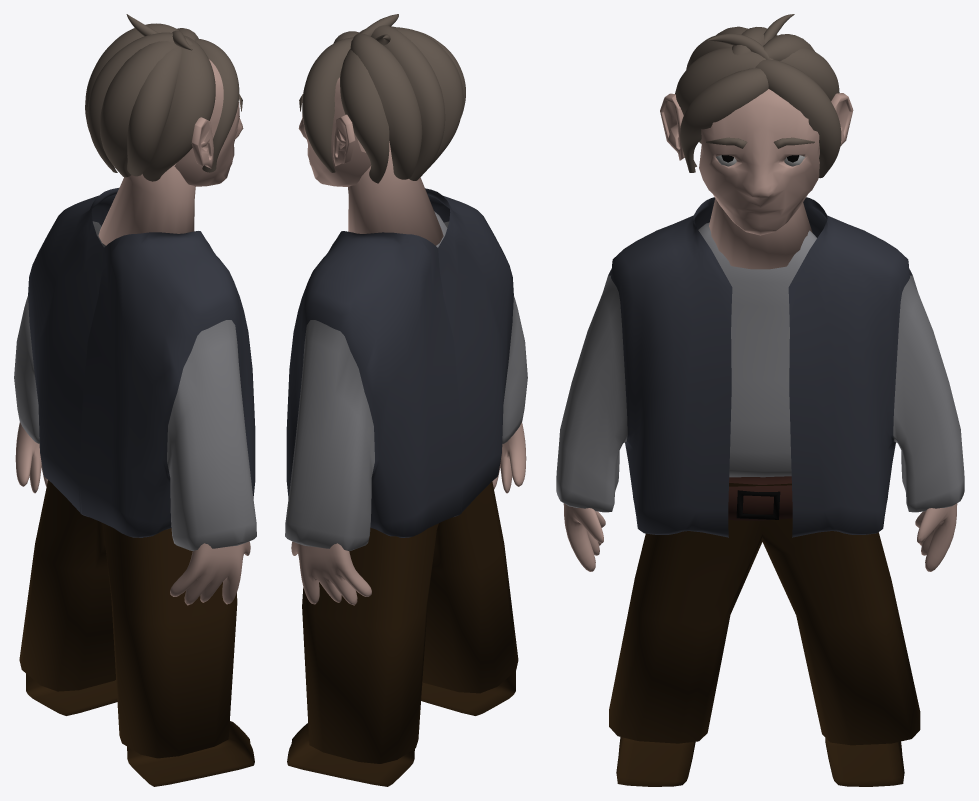
File: character5.fbx
3 renders of one model, left to right at view 1: azimuth 30°, elevation 25°; view 2: azimuth 150°, elevation 25°; view 3: azimuth 270°, elevation 25°, orthographic. The views are drawn at different scales.
Visible parts, largest first — view 1: Cube.034, Cube.033, Cube.062, Cylinder.002, Cube.031, NurbsPath, NurbsPath.004, NurbsPath.005, Object_low.003, NurbsPath.007, NurbsPath.001, NurbsPath.006 (+1 smaller); view 2: Cube.034, Cube.033, Cylinder.002, Cube.062, NurbsPath.006, Cube.031, NurbsPath.007, NurbsPath.002, NurbsPath.003, NurbsPath.004, Object_low.003, Plane.005; view 3: Cube.034, Cube.033, Cube.035, Object_low.003, Cube.062, Cylinder.002, Cube.031, NurbsPath.003, NurbsPath.001, NurbsPath, Cube.037, Plane.005 (+2 smaller).
Boxes of the visible parts, box(x1,y1,x2,y2) form: Cube.034: box(14, 188, 256, 550); Cube.033: box(19, 480, 237, 758); Cube.062: box(26, 673, 254, 786); Cylinder.002: box(98, 163, 195, 245); Cube.031: box(15, 422, 250, 605); NurbsPath: box(142, 35, 215, 181); NurbsPath.004: box(100, 41, 178, 177); NurbsPath.005: box(127, 47, 181, 176); Object_low.003: box(174, 59, 243, 186); NurbsPath.007: box(87, 32, 193, 172); NurbsPath.001: box(194, 38, 239, 172); NurbsPath.006: box(85, 23, 179, 131); Cube.034: box(285, 188, 527, 550); Cube.033: box(302, 481, 518, 763); Cylinder.002: box(348, 139, 443, 245); Cube.062: box(287, 671, 515, 786); NurbsPath.006: box(350, 33, 422, 179); Cube.031: box(291, 422, 526, 605); NurbsPath.007: box(371, 25, 445, 180); NurbsPath.002: box(340, 49, 389, 183); NurbsPath.003: box(302, 37, 353, 172); NurbsPath.004: box(392, 27, 463, 171); Object_low.003: box(298, 77, 371, 186); Plane.005: box(333, 114, 355, 166); Cube.034: box(556, 197, 964, 537); Cube.033: box(609, 483, 920, 745); Cube.035: box(698, 222, 816, 477); Object_low.003: box(699, 89, 819, 235); Cube.062: box(616, 737, 904, 786); Cylinder.002: box(709, 198, 812, 269); Cube.031: box(563, 503, 957, 571); NurbsPath.003: box(755, 59, 841, 178); NurbsPath.001: box(680, 68, 768, 172); NurbsPath: box(675, 47, 765, 143); Cube.037: box(728, 476, 792, 520); Plane.005: box(660, 93, 853, 160).
Size of the model in its own units: 40.26 by 169 by 83.43.
